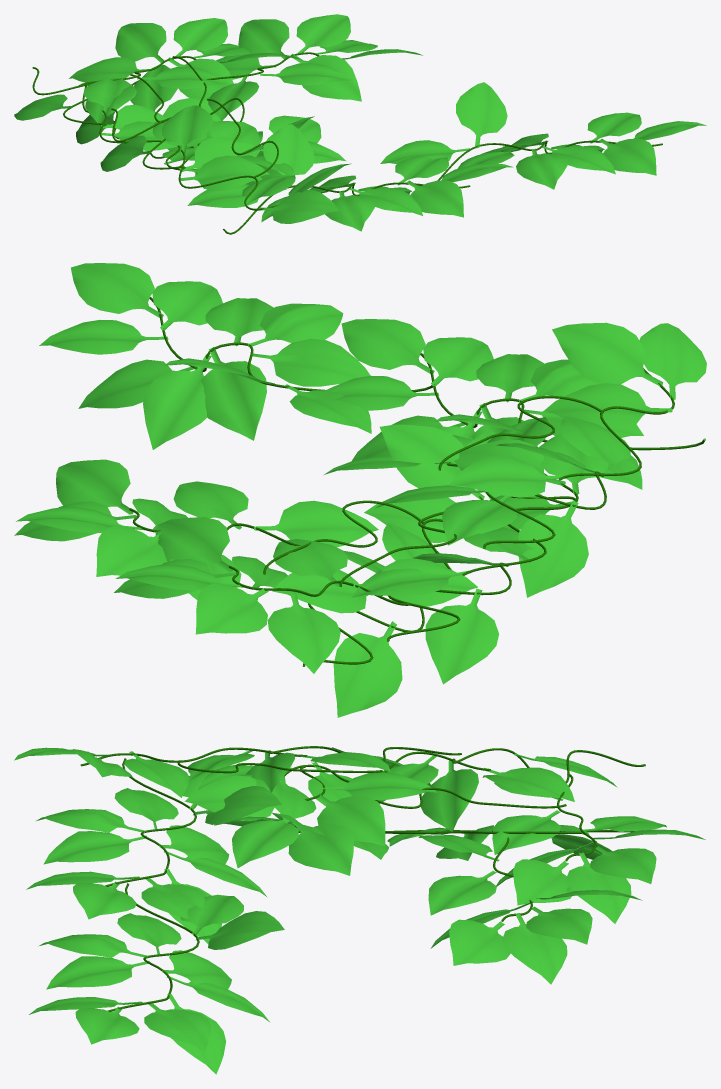
File: green_vines_large.fbx
3 renders of one model, top to bottom at view 1: azimuth 30°, elevation 25°; view 2: azimuth 150°, elevation 25°; view 3: azimuth 270°, elevation 25°, orthographic. The views are drawn at different scales.
Parts seen in each view (by area): view 1: Vine11; view 2: Vine11; view 3: Vine11.
Part boxes in pixels (x1,y1,x2,y2): Vine11: (14, 14, 706, 234); Vine11: (14, 263, 706, 717); Vine11: (14, 746, 705, 1074).
Bounding box in the file's own units: 2530 × 550 × 2467.
